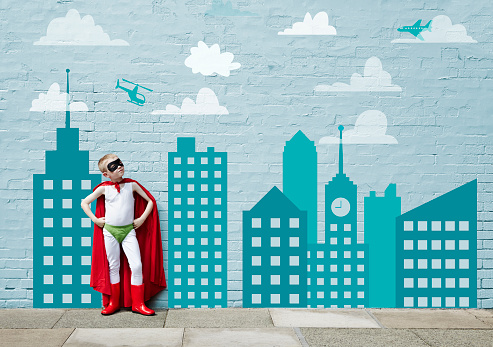em pe: (85, 149, 152, 316)
